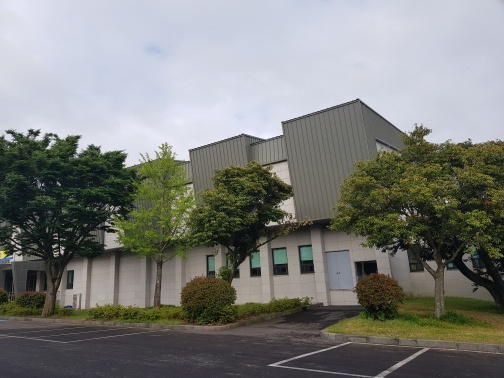Gym: (19, 107, 478, 312), (206, 233, 389, 301)
